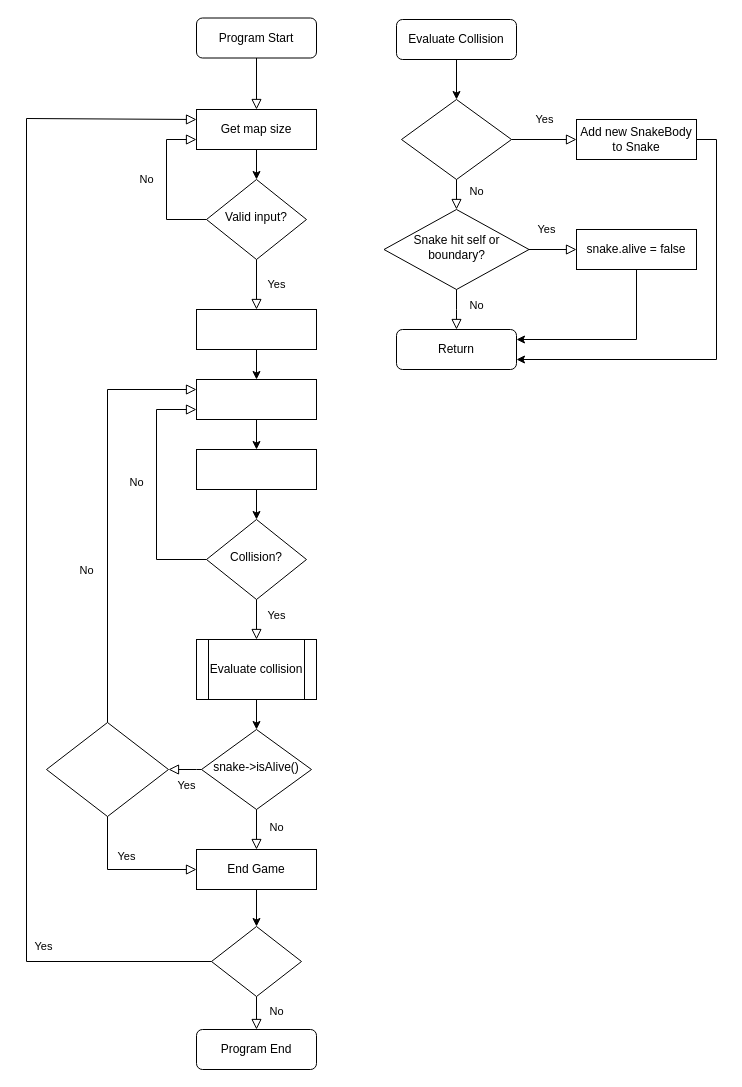
Image size: 742x1087. Some labels were removed from this diagram. The shapes that lost their labels are listed below. From the top down, each one's centre as x and y in pixels, then its label:
At [456,139]: "Snake hit food?".
At [256,329]: "Start game".
At [256,399]: "Update objects".
At [256,469]: "Render objects".
At [107,769]: "Win condition met?".
At [256,961]: "Rematch?".
